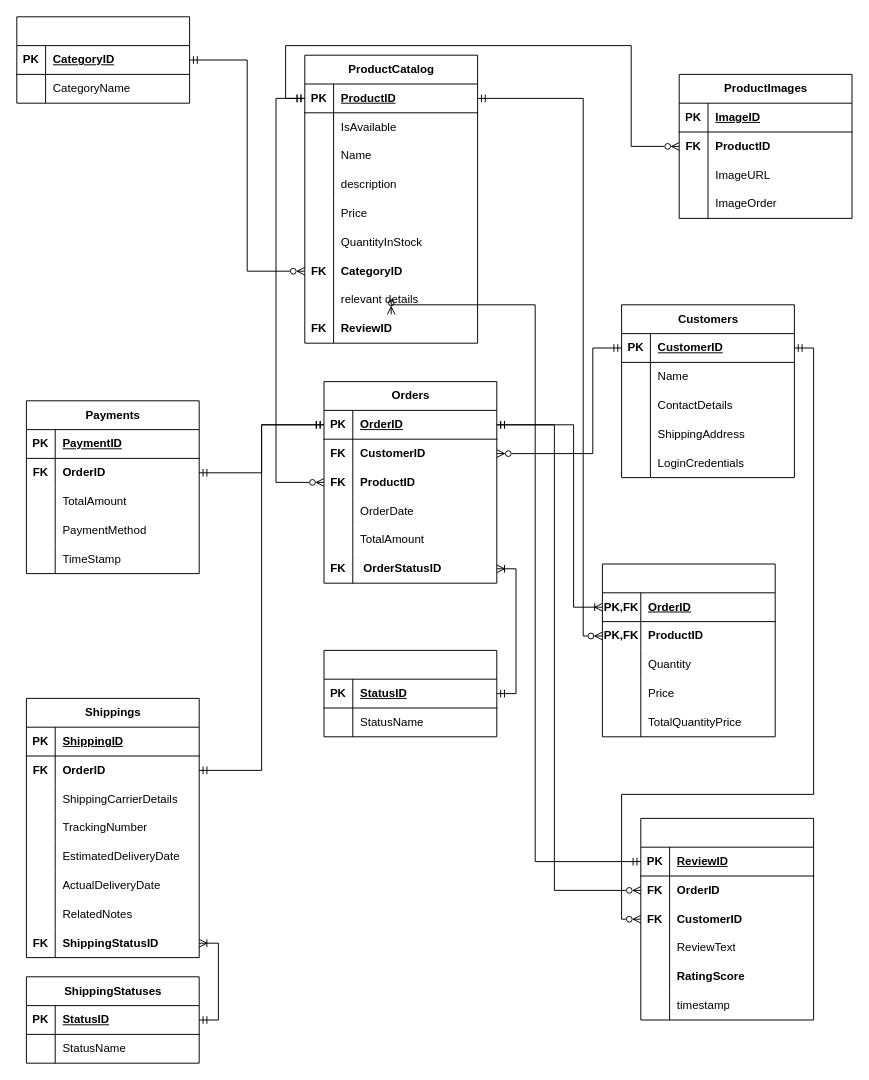
The diagram is 869 pixels wide and 1080 high, and some of its shapes have lost their labels. The shapes that lost their labels are listed below. From the top down, each one's box as (x1, y1, x2, y2) in pixels, then its label:
(16, 16, 190, 103): ProductCategories
(601, 563, 775, 737): OrderItems
(323, 649, 497, 737): OrderStatuses
(640, 817, 814, 1020): Reviews
